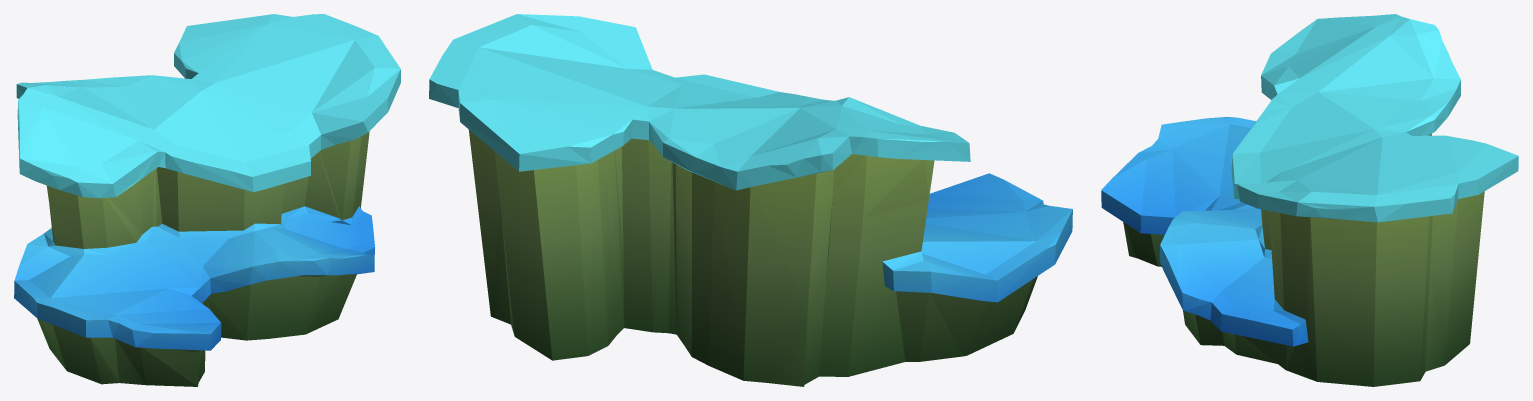
File: SM_Coral_20.fbx
The picture shows the model from 3 angles, left to right: view 1: azimuth 30°, elevation 25°; view 2: azimuth 150°, elevation 25°; view 3: azimuth 270°, elevation 25°; orthographic projection. The views are drawn at different scales.
Visible parts, largest first — view 1: Coral_20; view 2: Coral_20; view 3: Coral_20.
Boxes of the visible parts, <box> form: Coral_20: <box>14,14,400,386</box>; Coral_20: <box>429,14,1072,386</box>; Coral_20: <box>1101,14,1518,386</box>.
Size of the model in its own units: 247 by 120 by 207.
